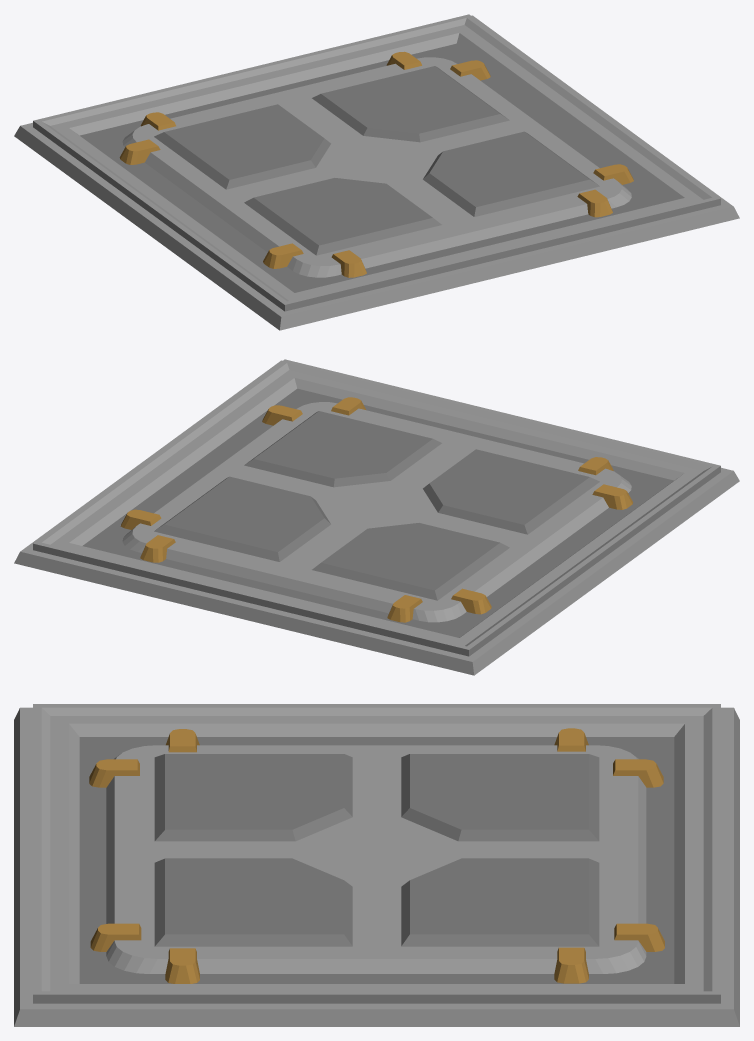
File: RoofTile_Plate2.glb
3 views of the same model, one above another, from view 1: azimuth 30°, elevation 25°; view 2: azimuth 150°, elevation 25°; view 3: azimuth 270°, elevation 25° (orthographic). The views are drawn at different scales.
Parts seen in each view (by area): view 1: RoofTile_Plate2; view 2: RoofTile_Plate2; view 3: RoofTile_Plate2.
Part boxes in pixels (x1,y1,x2,y2): RoofTile_Plate2: (14, 14, 739, 330); RoofTile_Plate2: (14, 359, 739, 675); RoofTile_Plate2: (14, 704, 739, 1026).
Bounding box in the file's own units: 0.68 × 0.0318 × 0.68.
